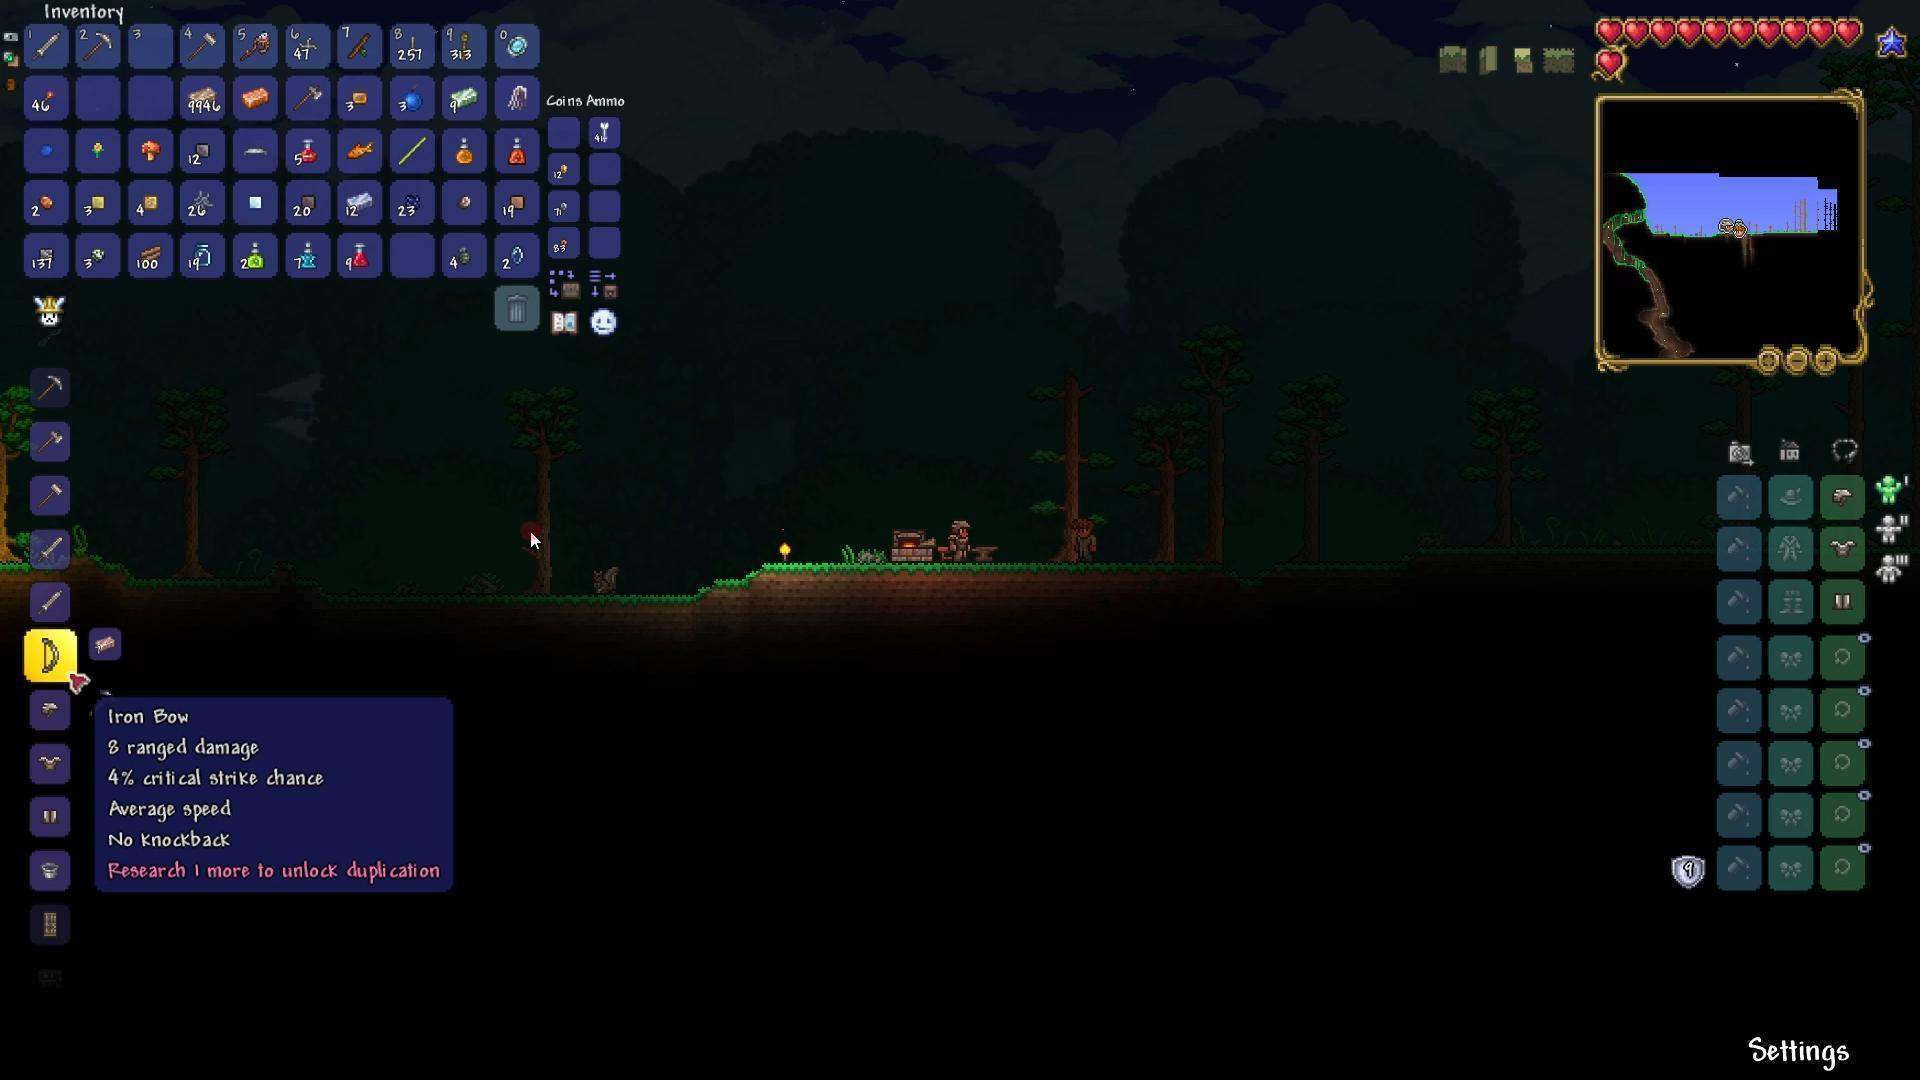anvil: (967, 542, 1009, 570)
axe: (291, 82, 326, 116), (36, 429, 66, 458)
bar: (182, 82, 219, 112), (448, 82, 480, 112), (241, 80, 272, 109), (345, 189, 375, 215)
bow: (22, 620, 80, 687)
breastplate: (1826, 538, 1858, 560)
cobwebI: (190, 189, 216, 215)
furnace: (881, 524, 943, 559)
gel: (38, 140, 57, 158)
helmet: (21, 790, 83, 847), (20, 684, 78, 733), (25, 740, 76, 789), (1829, 487, 1854, 506)
knife: (406, 36, 422, 58)
legs: (1829, 591, 1855, 615)
lens: (510, 241, 526, 268)
ore: (38, 190, 57, 218), (87, 244, 108, 266), (456, 190, 473, 211)
potion: (298, 132, 323, 166), (351, 239, 371, 270)
shuriken: (293, 33, 320, 57)
